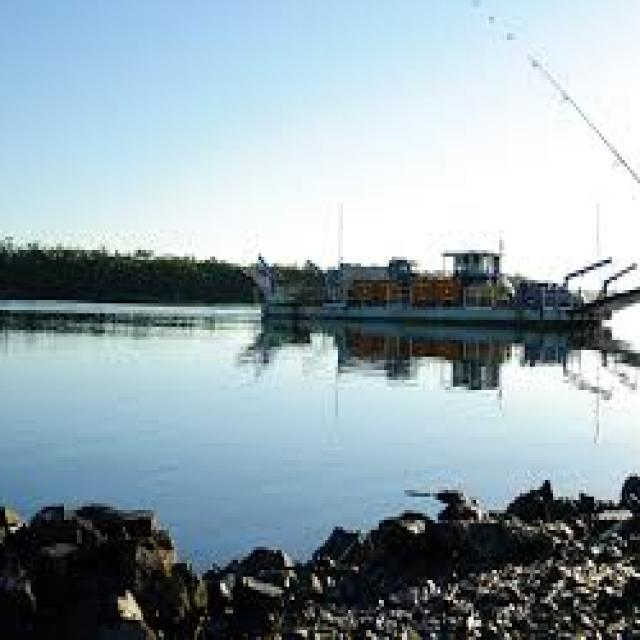fishing boat: (240, 229, 633, 319)
